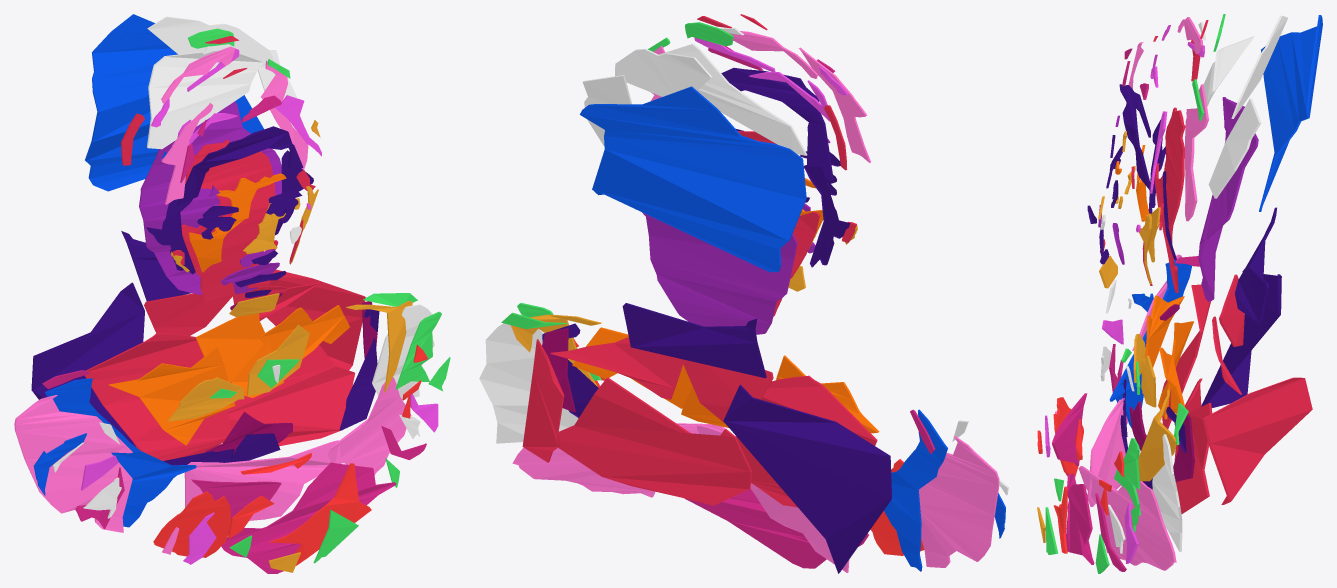
Rendered from abstractportrait.glb.
The picture shows the model from 3 angles, left to right: view 1: azimuth 30°, elevation 25°; view 2: azimuth 150°, elevation 25°; view 3: azimuth 270°, elevation 25°; orthographic projection. The views are drawn at different scales.
Visible parts, largest first — view 1: Curve.062, Curve.003, Curve.037, Curve.005, Curve.071, Curve.074, Curve.067, Curve.001, Curve.033, Curve.032, Curve.007, Curve.026 (+40 smaller); view 2: Curve.062, Curve.001, Curve.005, Curve.067, Curve.037, Curve, Curve.025, Curve.026, Curve.003, Curve.033, Curve.074, Curve.004 (+20 smaller); view 3: Curve.006, Curve.062, Curve.028, Curve.001, Curve.067, Curve.071, Curve.005, Curve.076, Curve.032, Curve, Curve.025, Curve.033 (+31 smaller).
Part boxes in pixels (x1=…): Curve.062: x1=85, y1=14, x2=263, y2=191; Curve.003: x1=85, y1=333, x2=230, y2=460; Curve.037: x1=14, y1=395, x2=132, y2=532; Curve.005: x1=228, y1=345, x2=355, y2=446; Curve.071: x1=181, y1=140, x2=278, y2=300; Curve.074: x1=147, y1=49, x2=263, y2=149; Curve.067: x1=139, y1=101, x2=281, y2=294; Curve.001: x1=31, y1=282, x2=144, y2=447; Curve.033: x1=221, y1=462, x2=396, y2=573; Curve.032: x1=184, y1=440, x2=341, y2=520; Curve.007: x1=108, y1=347, x2=235, y2=445; Curve.026: x1=45, y1=378, x2=196, y2=527; Curve.062: x1=580, y1=86, x2=806, y2=272; Curve.001: x1=723, y1=384, x2=891, y2=573; Curve.005: x1=558, y1=377, x2=751, y2=505; Curve.067: x1=642, y1=212, x2=797, y2=334; Curve.037: x1=919, y1=436, x2=999, y2=567; Curve: x1=622, y1=303, x2=766, y2=378; Curve.025: x1=479, y1=323, x2=578, y2=443; Curve.026: x1=884, y1=409, x2=947, y2=571; Curve.003: x1=736, y1=375, x2=877, y2=507; Curve.033: x1=684, y1=488, x2=868, y2=568; Curve.074: x1=659, y1=43, x2=807, y2=155; Curve.004: x1=550, y1=337, x2=682, y2=399; Curve.006: x1=1202, y1=377, x2=1312, y2=504; Curve.062: x1=1259, y1=15, x2=1322, y2=211; Curve.028: x1=1078, y1=466, x2=1176, y2=570; Curve.001: x1=1201, y1=269, x2=1281, y2=407; Curve.067: x1=1198, y1=97, x2=1258, y2=301; Curve.071: x1=1154, y1=107, x2=1185, y2=292; Curve.005: x1=1174, y1=378, x2=1212, y2=513; Curve.076: x1=1208, y1=98, x2=1261, y2=198; Curve.032: x1=1087, y1=398, x2=1125, y2=506; Curve: x1=1235, y1=207, x2=1276, y2=323; Curve.025: x1=1152, y1=434, x2=1182, y2=551; Curve.033: x1=1066, y1=473, x2=1094, y2=564.
Bounding box in the file's own units: 12.71 × 14.18 × 6.95.
